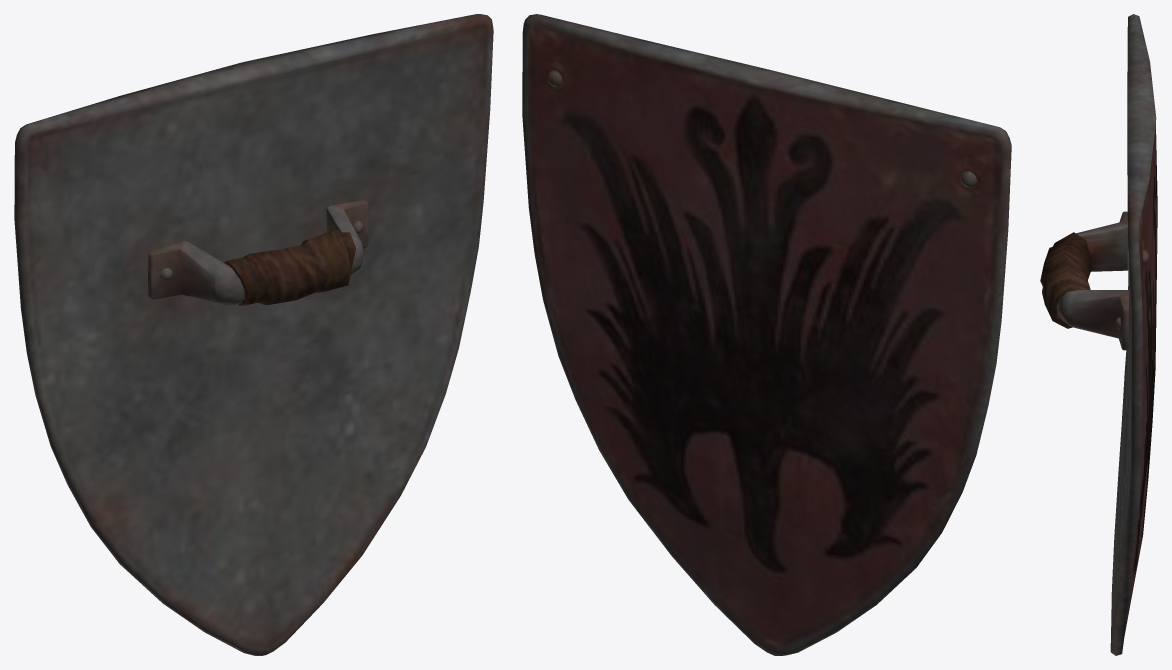
The model's file is weapon-wp_a_2035.glb.
3 renders of one model, left to right at view 1: azimuth 30°, elevation 25°; view 2: azimuth 150°, elevation 25°; view 3: azimuth 270°, elevation 25°, orthographic. The views are drawn at different scales.
Parts seen in each view (by area): view 1: wp_a_2035_mesh; view 2: wp_a_2035_mesh; view 3: wp_a_2035_mesh.
Part boxes in pixels (left/top/right/bottom): wp_a_2035_mesh: left=14, top=14, right=493, bottom=655; wp_a_2035_mesh: left=522, top=14, right=1011, bottom=655; wp_a_2035_mesh: left=1040, top=14, right=1157, bottom=655.
Size of the model in its own units: 0.5657 by 0.6562 by 0.13.
Materials: 1 (1 with a texture image).
